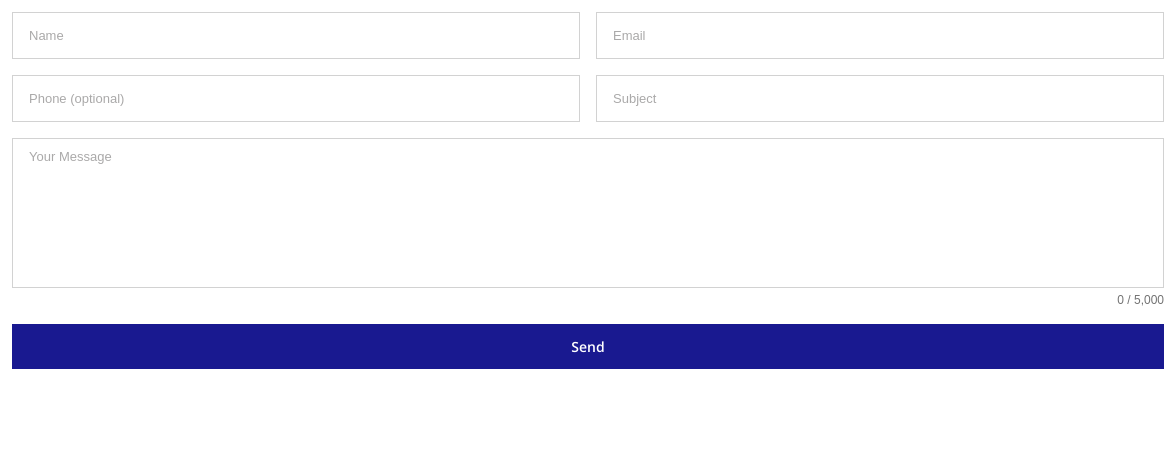
Test: ContactForm › clears only the Name field's message when it is edited
The image size is (1176, 470).
Click the button "Send" at [588, 346], box [12,324,1164,369]
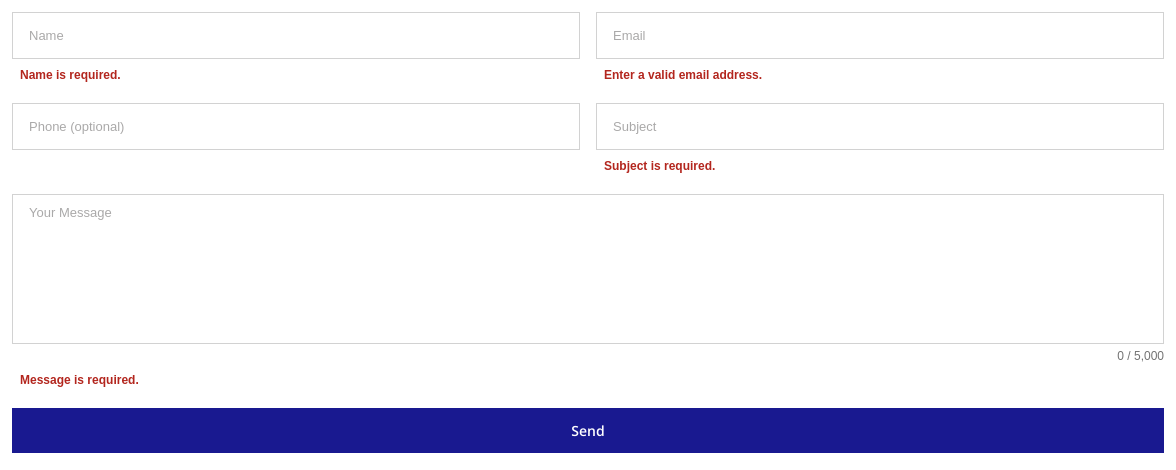
Expected: the text "Name is required." is shown, [12,63,580,87]
Type "Ali" into the field labelled "Name" at [296, 36], box [12,12,580,59]
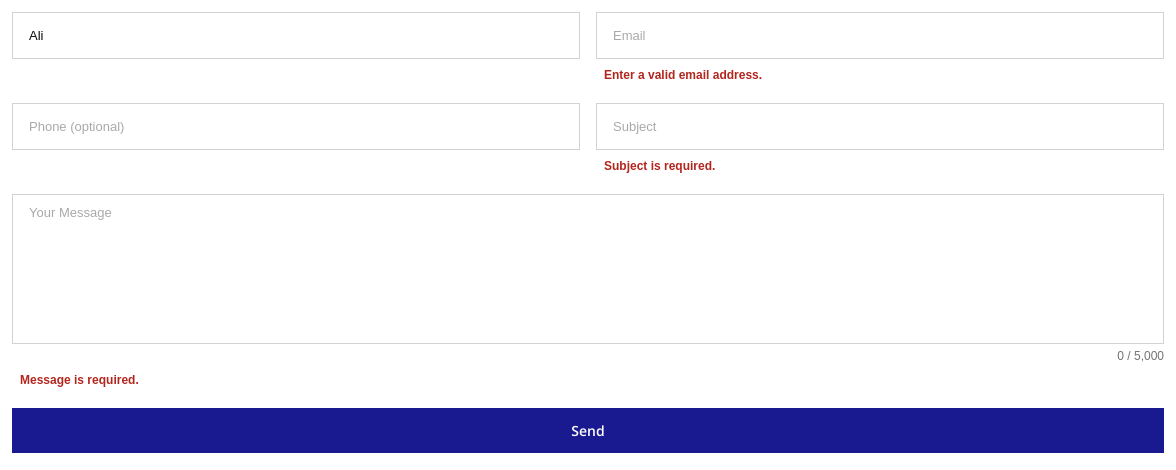
Expected: the text "Subject is required." is shown, [596,154,1164,178]
Expected: the text "Name is required." is gone
